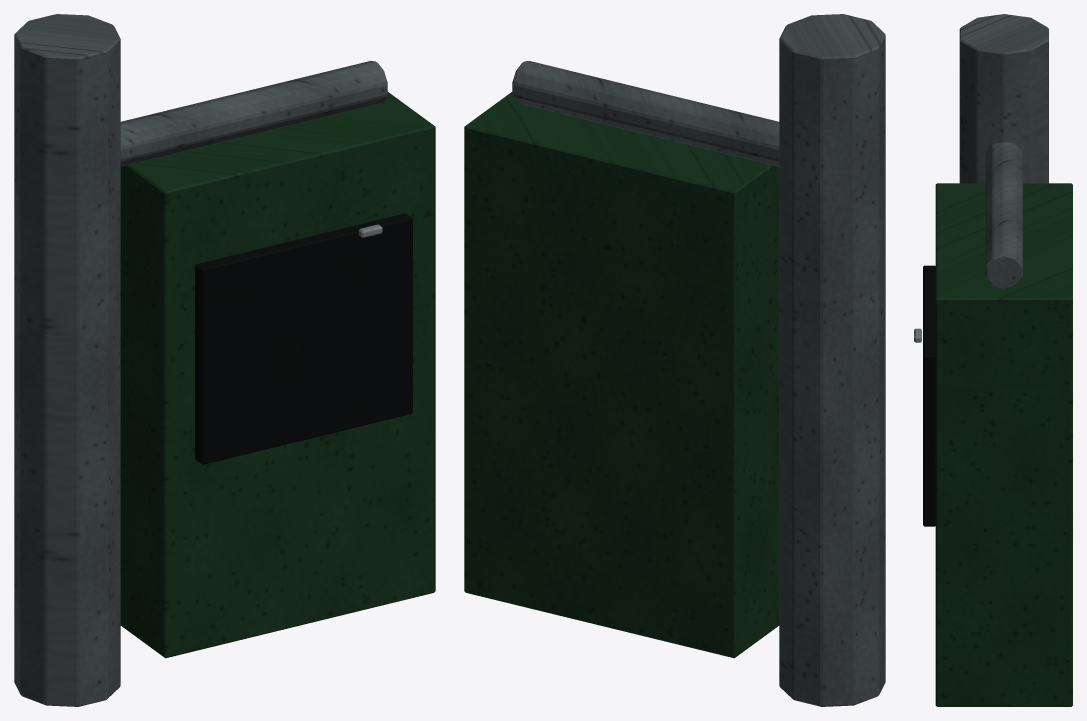
The model's file is PROP-63E86F575D7C_lod1.glb.
The picture shows the model from 3 angles, left to right: view 1: azimuth 30°, elevation 25°; view 2: azimuth 150°, elevation 25°; view 3: azimuth 270°, elevation 25°; orthographic projection. The views are drawn at different scales.
Visible parts, largest first — view 1: cabinet.001, vent_stack.001, recessed_front.001, conduit.001; view 2: cabinet.001, vent_stack.001, conduit.001; view 3: cabinet.001, vent_stack.001, conduit.001, recessed_front.001.
Part boxes in pixels (x1,y1,x2,y2): cabinet.001: (120,92,435,658); vent_stack.001: (14,14,120,706); recessed_front.001: (195,213,412,464); conduit.001: (120,61,387,166); cabinet.001: (464,92,779,658); vent_stack.001: (779,14,885,706); conduit.001: (512,61,779,166); cabinet.001: (935,183,1072,706); vent_stack.001: (959,14,1048,183); conduit.001: (985,142,1022,289); recessed_front.001: (923,265,935,526).
Size of the model in its own units: 0.9688 by 1.6 by 0.405.
Materials: 4 (4 with a texture image).
